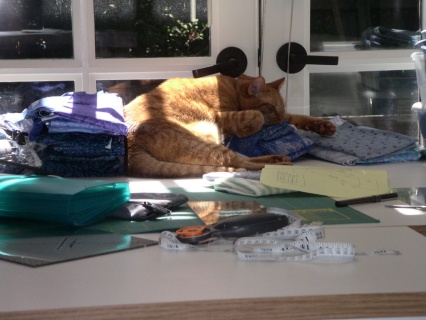Cat: (121, 73, 336, 175)
